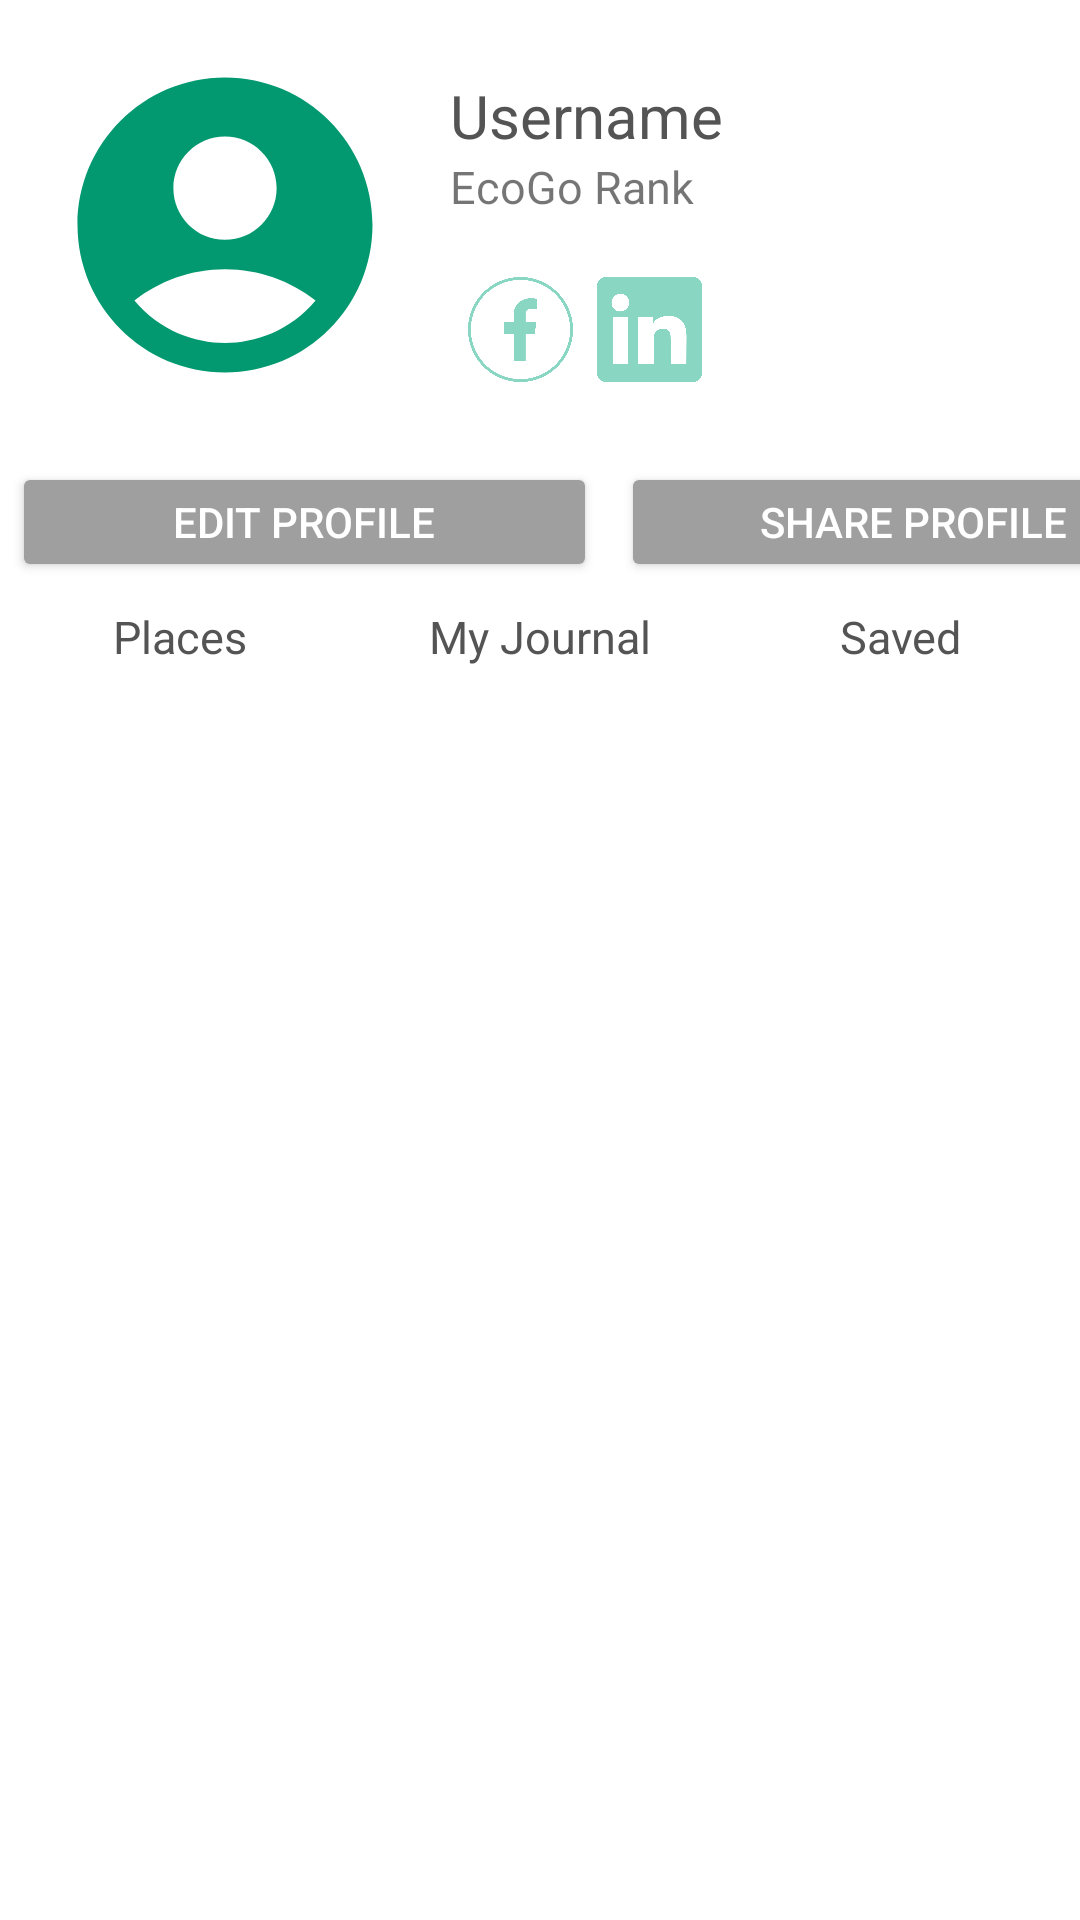

Screen size 1080w x 1920h. Icon name, then its center in pixels as point (x, y):
account circle: point (225, 225)
